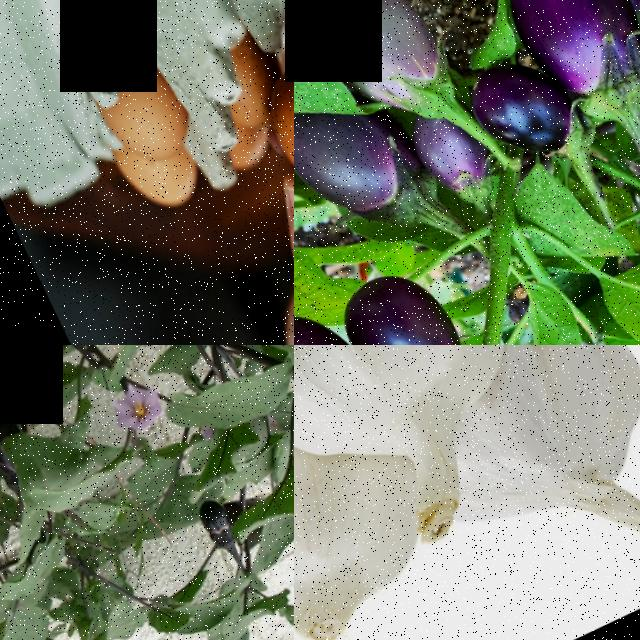egg_: (79, 50, 198, 183), (244, 52, 294, 249)
eggplant: (294, 0, 471, 153), (294, 76, 437, 264), (485, 0, 640, 150), (453, 43, 593, 199), (358, 252, 488, 345), (403, 108, 492, 226), (181, 497, 237, 566)
garlic: (417, 345, 640, 568), (294, 345, 538, 509), (294, 433, 433, 640)
